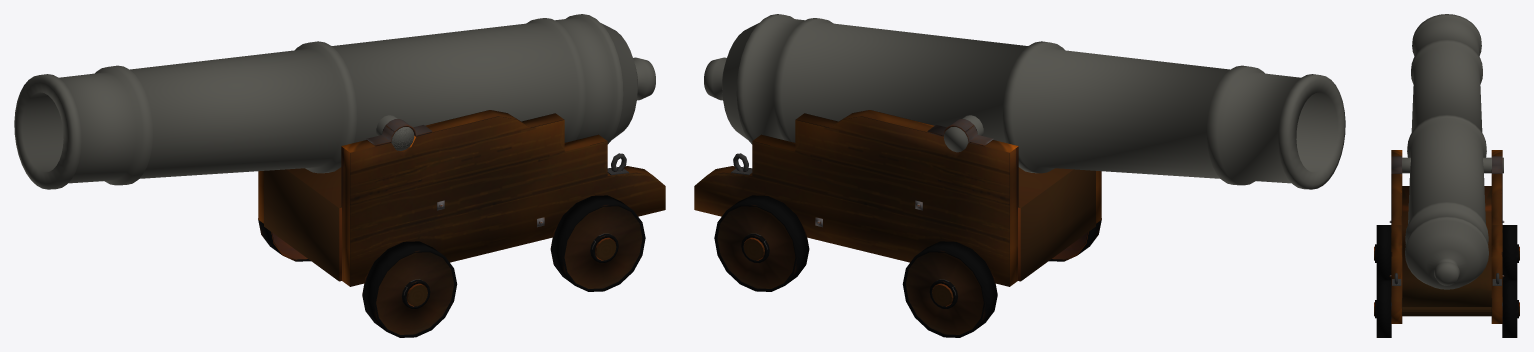
File: Cannon.gltf
The picture shows the model from 3 angles, left to right: view 1: azimuth 30°, elevation 25°; view 2: azimuth 150°, elevation 25°; view 3: azimuth 270°, elevation 25°; orthographic projection. The views are drawn at different scales.
Visible parts, largest first — view 1: Pipe, Base; view 2: Pipe, Base; view 3: Pipe, Base.
Boxes of the visible parts, box(x1,y1,x2,y2) form: Pipe: box(14, 14, 655, 189); Base: box(258, 110, 665, 337); Pipe: box(704, 14, 1345, 189); Base: box(694, 110, 1101, 337); Pipe: box(1402, 14, 1503, 289); Base: box(1374, 150, 1519, 337).
Bounding box in the file's own units: 5.05 × 2.28 × 1.71.
2 materials, 2 textured.
